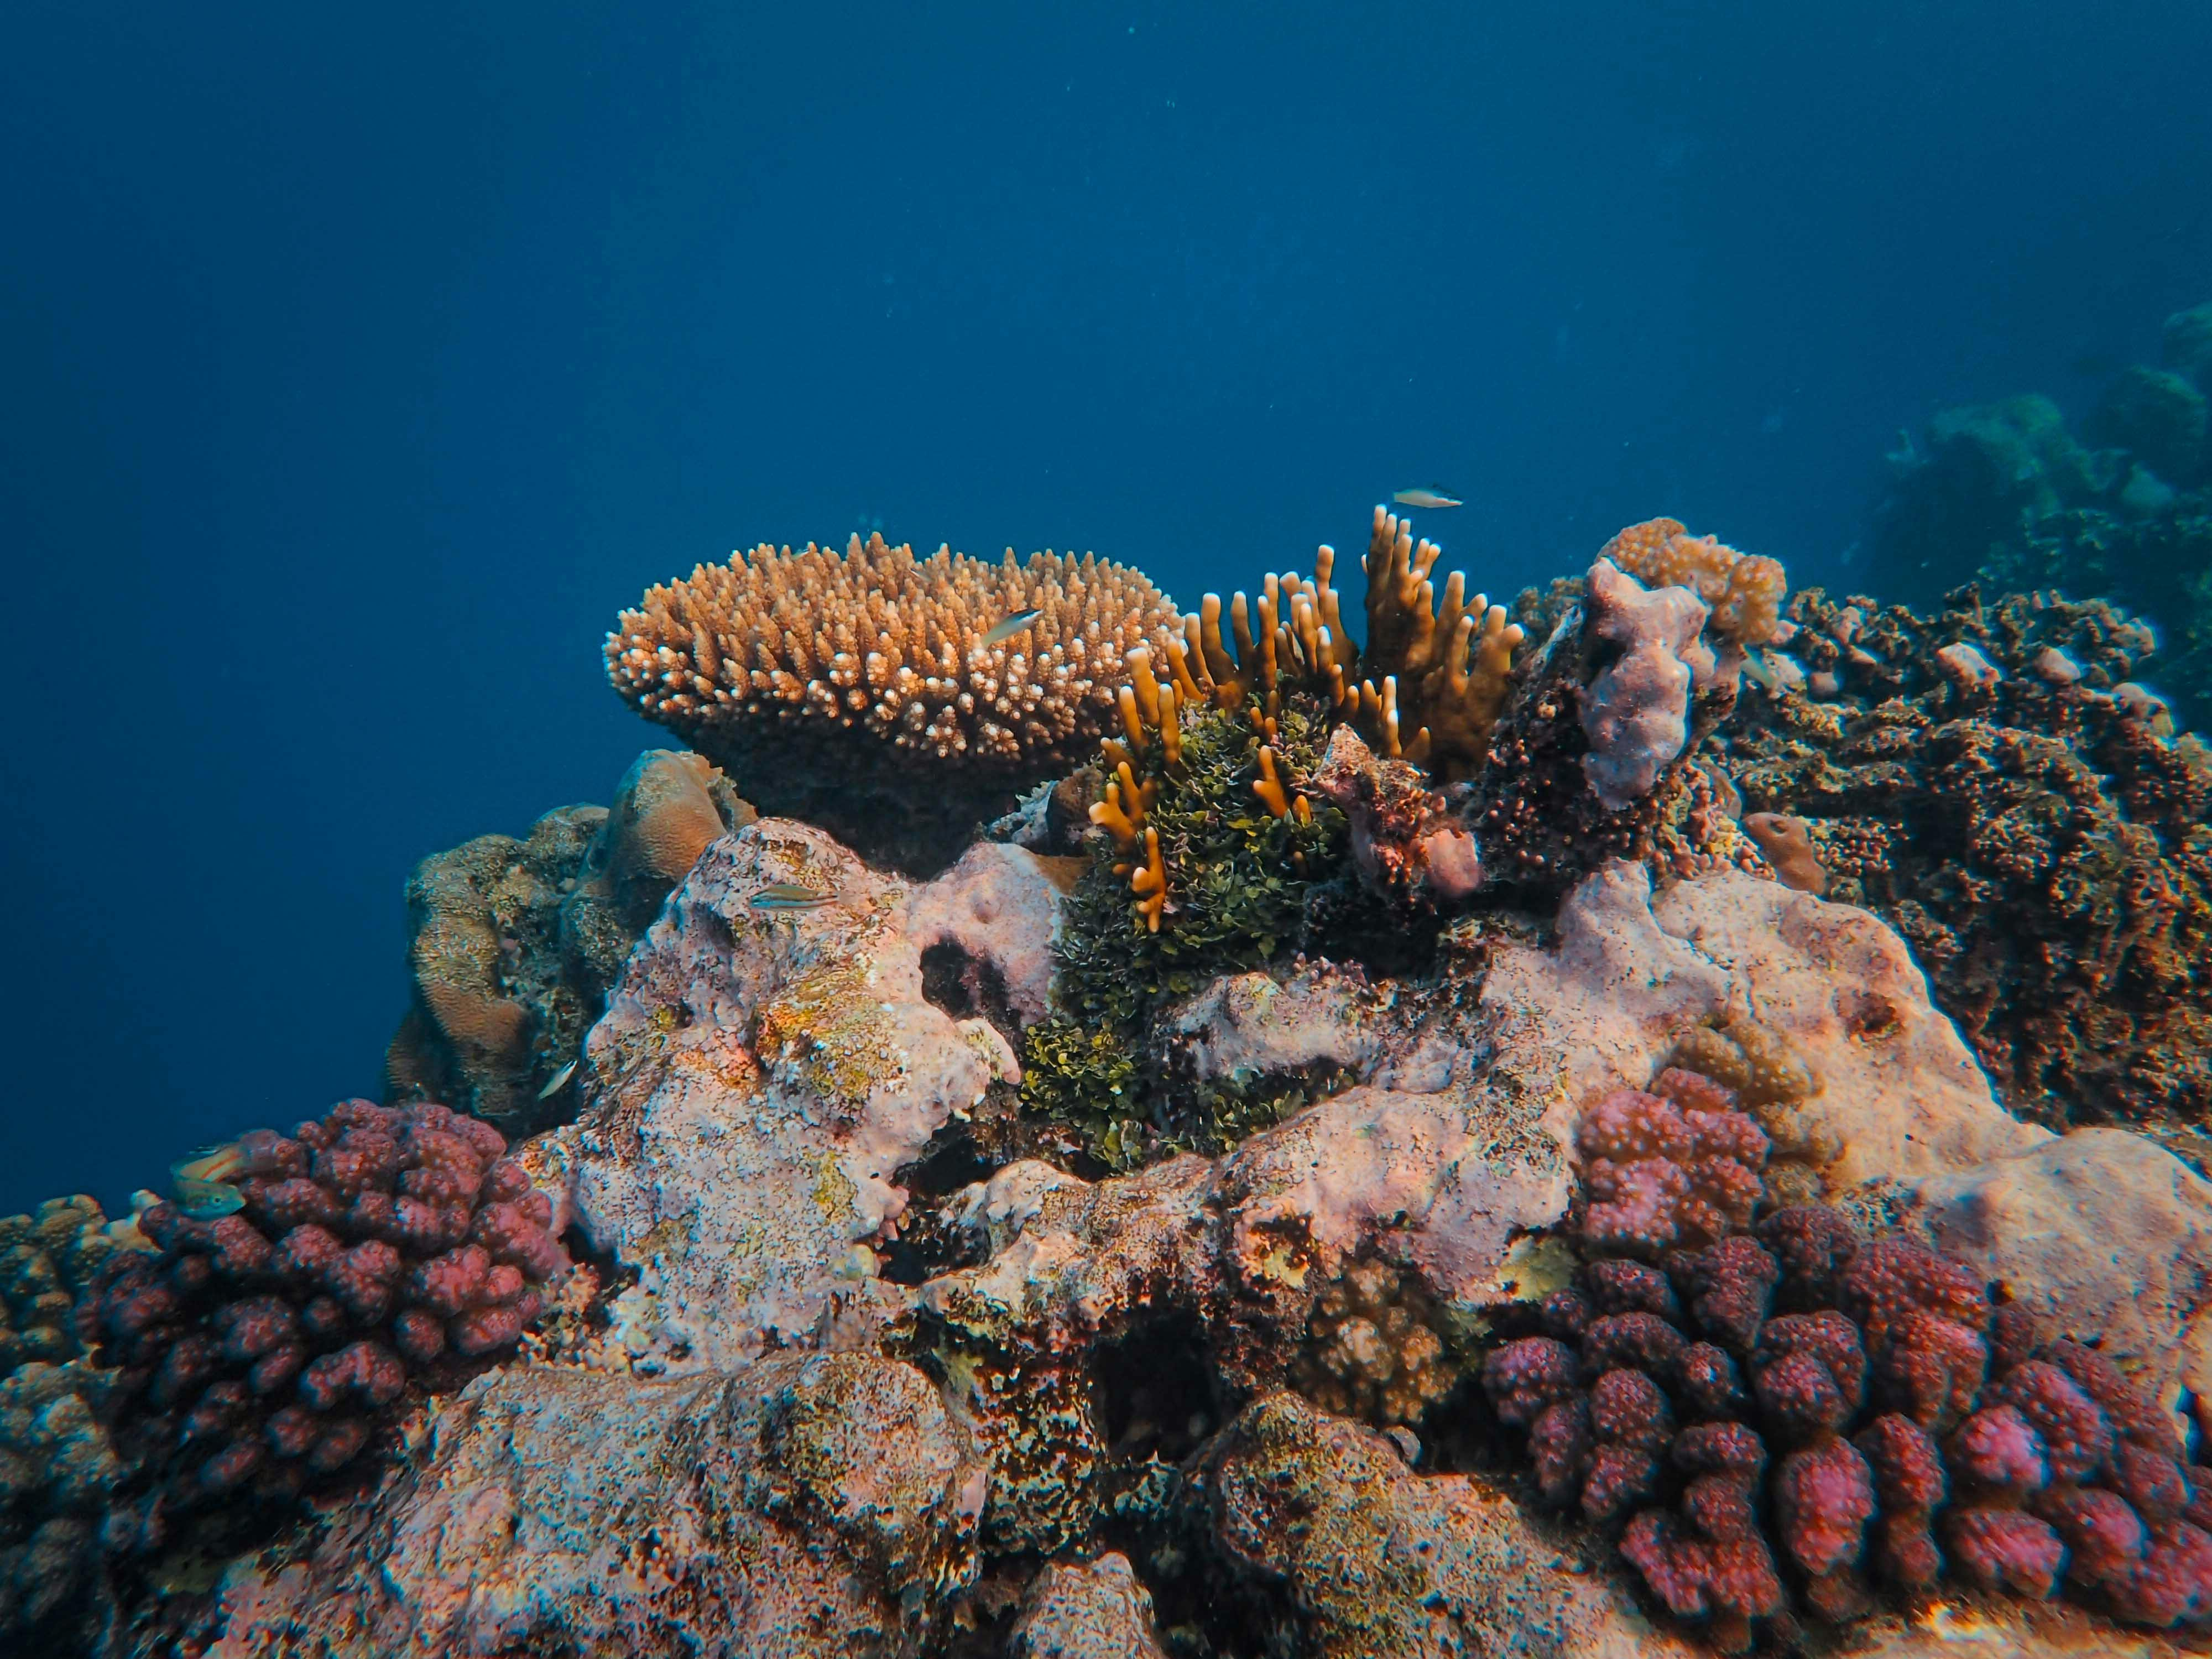fishSmall: (162, 1133, 275, 1225), (970, 603, 1047, 659), (747, 884, 855, 917), (1376, 481, 1465, 514), (529, 1058, 580, 1110)
